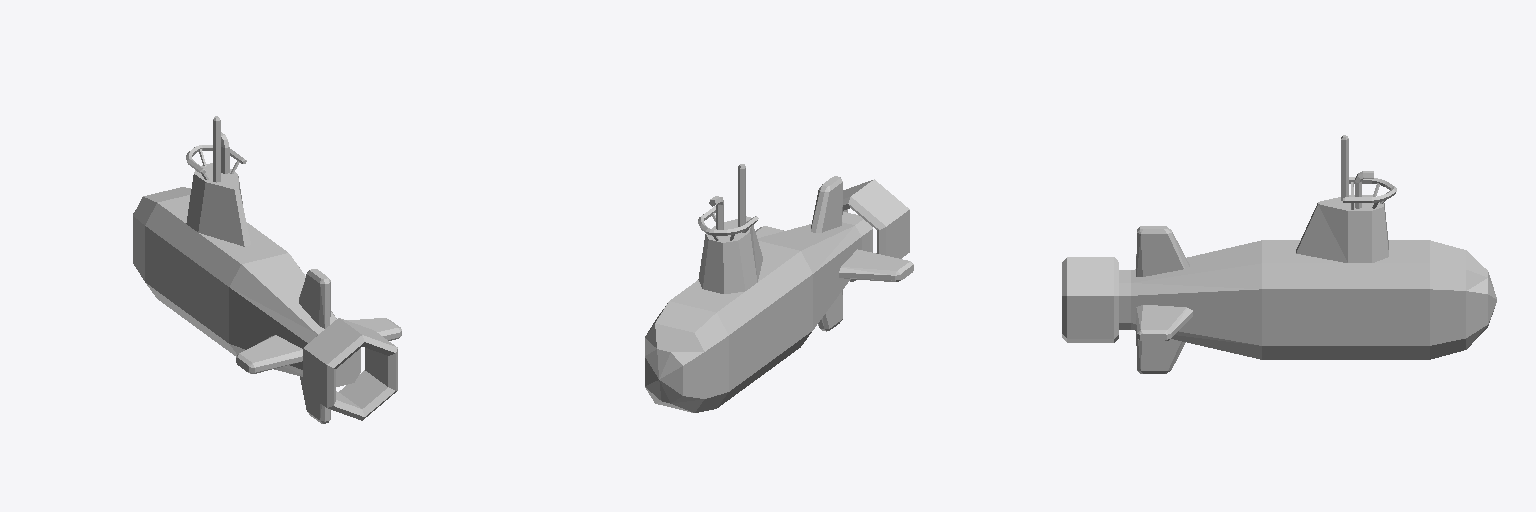
Rendered from deepsubmergence.submarine.obj.
3 views of the same model, side by side, from view 1: azimuth 30°, elevation 25°; view 2: azimuth 150°, elevation 25°; view 3: azimuth 270°, elevation 25° (orthographic).
Visible parts, largest first — view 1: Cube_Cube.001; view 2: Cube_Cube.001; view 3: Cube_Cube.001.
Boxes of the visible parts, x1,y1,x2,y2 form: Cube_Cube.001: [133, 116, 401, 423]; Cube_Cube.001: [645, 164, 913, 412]; Cube_Cube.001: [1062, 135, 1496, 373].
Bounding box in the file's own units: 1.7 × 2.47 × 4.18.